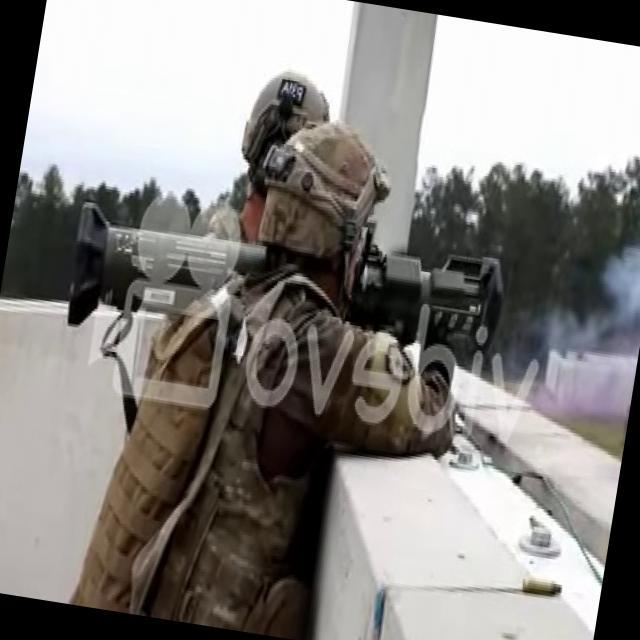rocket: (67, 195, 509, 386)
